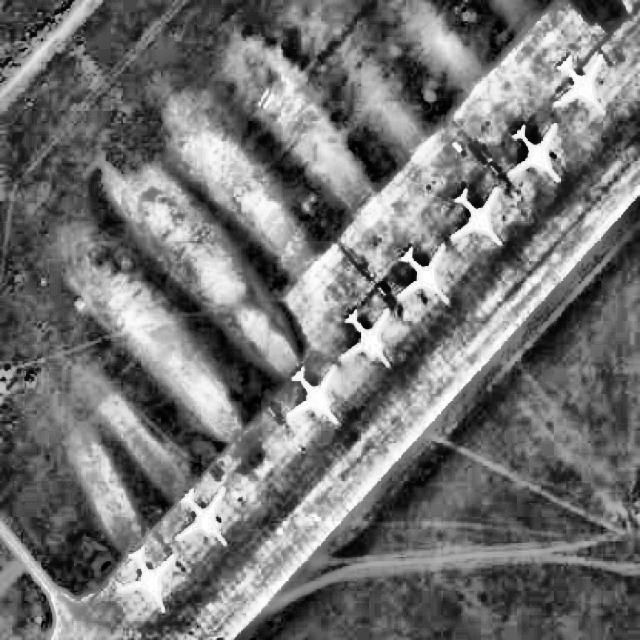Tu160: (118, 545, 174, 612), (338, 306, 392, 369), (396, 241, 450, 304), (552, 53, 606, 116), (286, 363, 340, 425), (449, 185, 503, 247), (507, 122, 561, 183), (175, 487, 227, 547)
